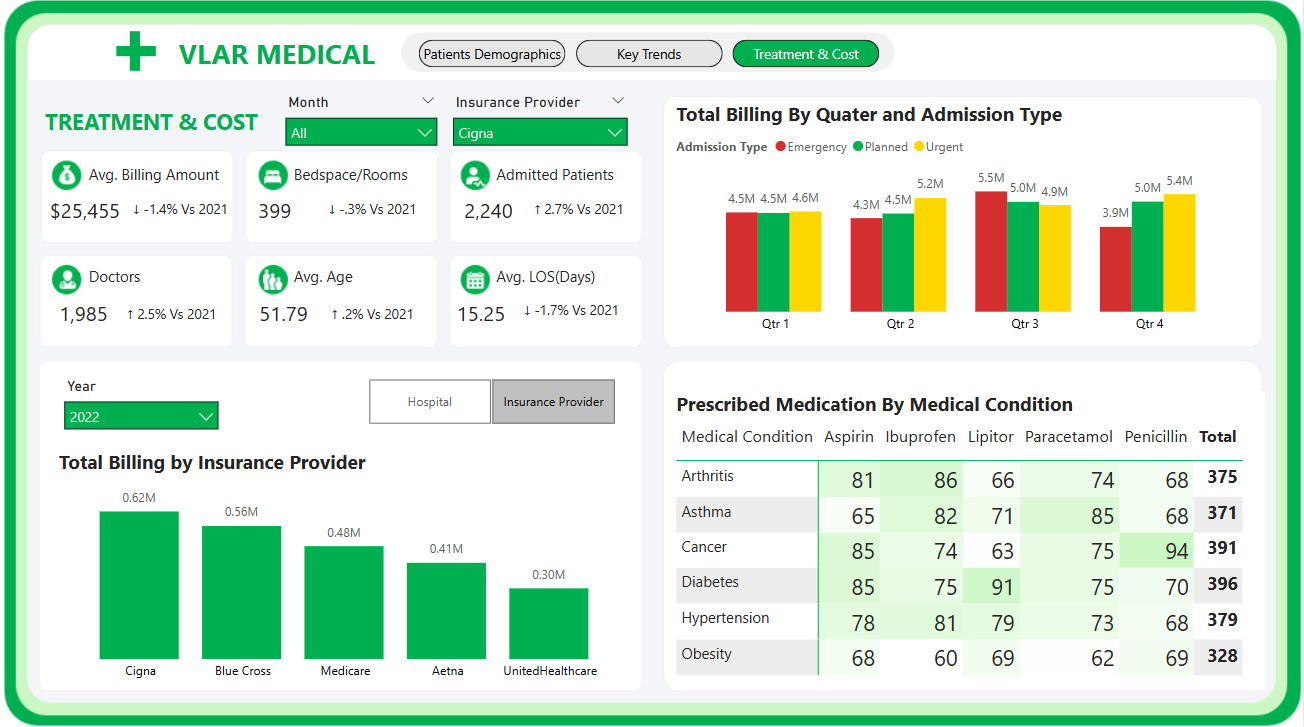

This screenshot's page, from the dashboard's own definition file:
{"tool":"powerbi","page":{"name":"Treatment & Cost","canvas":[1280,720],"ordinal":2},"visuals":[{"type":"card","fields":{"Values":["DAX.Admitted Patients"]},"box":[434.9,197.7,90.7,26.7],"z":0},{"type":"textbox","box":[482.7,159.3,135.8,30.9],"z":1000},{"type":"textbox","box":[283.7,260.5,122.1,30.2],"z":2000},{"type":"textbox","box":[82.6,260.5,131.4,30.2],"z":3000},{"type":"textbox","box":[284,159.3,132.1,30.9],"z":4000},{"type":"textbox","box":[82.6,159.3,150,30.2],"z":5000},{"type":"textbox","box":[482.6,260.5,140.7,30.2],"z":6000},{"type":"card","fields":{"Values":["DAX.Avg LOS"]},"box":[426.7,300,90.7,26.7],"z":7000},{"type":"card","fields":{"Values":["DAX.Rooms"]},"box":[224.4,197.7,90.7,26.7],"z":8000},{"type":"card","fields":{"Values":["DAX.Average Age"]},"box":[232.6,300,90.7,26.7],"z":9000},{"type":"card","fields":{"Values":["DAX.Doctors"]},"box":[37.2,300,90.7,26.7],"z":10000},{"type":"card","fields":{"Values":["DAX.Avg Billing Amt"]},"box":[8.1,197.7,150,26.7],"z":11000},{"type":"card","fields":{"Values":["DAX.Room YoY"]},"box":[315.1,195.3,101.2,32.6],"z":12000},{"type":"card","fields":{"Values":["DAX.LOS YoY"]},"box":[502.5,295.1,116,32.1],"z":13000},{"type":"card","fields":{"Values":["DAX.Age YoY"]},"box":[315.1,297.7,101.2,32.6],"z":14000},{"type":"card","fields":{"Values":["DAX.Doc YoY"]},"box":[112.8,297.7,111.6,32.6],"z":15000},{"type":"card","fields":{"Values":["DAX.Bill YoY"]},"box":[123.3,195.3,109.3,32.6],"z":16000},{"type":"card","fields":{"Values":["DAX.Adm YoY"]},"box":[517.4,195.3,101.2,32.6],"z":17000},{"type":"slicer","fields":{"Values":["Calendar.Year"]},"box":[53.1,369.1,171.6,64.2],"z":18000},{"type":"slicer","fields":{"Values":["Calendar.Month"]},"box":[269.9,90.8,169.3,63.8],"z":19000},{"type":"clusteredColumnChart","title":"Total Billing By Quater and  Admission Type ","fields":{"Y":["DAX.Total Billing"],"Category":["Calendar.Date.Variation.Date Hierarchy.Quarter"],"Series":["Vlar Health.Admission Type"]},"box":[659.3,102.5,572.8,237],"z":20000},{"type":"textbox","box":[170.6,33.1,227,58.9],"z":21000},{"type":"textbox","box":[39.3,103.1,230.7,42.9],"z":22000},{"type":"slicer","fields":{"Values":["Billing.Billing"]},"box":[336.2,369.3,290.8,57.7],"z":23000},{"type":"clusteredColumnChart","title":"Total Billing by Insurance Provider","fields":{"Category":["Vlar Health.Insurance Provider"],"Y":["DAX.Total Billing"]},"box":[52.8,444.2,573,236.8],"z":24000},{"type":"slicer","fields":{"Values":["Vlar Health.Insurance Provider"]},"box":[434.4,90.8,191.4,62.6],"z":25000},{"type":"pageNavigator","box":[411.1,43.2,453.1,27.2],"z":26000},{"type":"pivotTable","title":"Prescribed Medication By Medical Condition","fields":{"Values":["DAX.Admitted Patients"],"Rows":["DimCondition.Medical Condition"],"Columns":["Vlar Health.Medication"]},"box":[658.7,388.3,583.2,293.7],"z":27000}]}

Visuals, with their boxes in screenshot pixels (x1, y1, x2, y2), scaled from the page's 1280x720 canvas onto the 1304x727 screenshot:
card - DAX.Admitted Patients: 443, 200, 535, 227
textbox: 492, 161, 630, 192
textbox: 289, 263, 413, 294
textbox: 84, 263, 218, 294
textbox: 289, 161, 424, 192
textbox: 84, 161, 237, 191
textbox: 492, 263, 635, 294
card - DAX.Avg LOS: 435, 303, 527, 330
card - DAX.Rooms: 229, 200, 321, 227
card - DAX.Average Age: 237, 303, 329, 330
card - DAX.Doctors: 38, 303, 130, 330
card - DAX.Avg Billing Amt: 8, 200, 161, 227
card - DAX.Room YoY: 321, 197, 424, 230
card - DAX.LOS YoY: 512, 298, 630, 330
card - DAX.Age YoY: 321, 301, 424, 334
card - DAX.Doc YoY: 115, 301, 229, 334
card - DAX.Bill YoY: 126, 197, 237, 230
card - DAX.Adm YoY: 527, 197, 630, 230
slicer - Calendar.Year: 54, 373, 229, 438
slicer - Calendar.Month: 275, 92, 447, 156
"Total Billing By Quater and  Admission Type " clusteredColumnChart: 672, 103, 1255, 343
textbox: 174, 33, 405, 93
textbox: 40, 104, 275, 147
slicer - Billing.Billing: 343, 373, 639, 431
"Total Billing by Insurance Provider" clusteredColumnChart: 54, 449, 638, 688
slicer - Vlar Health.Insurance Provider: 443, 92, 638, 155
pageNavigator: 419, 44, 880, 71
"Prescribed Medication By Medical Condition" pivotTable: 671, 392, 1265, 689
